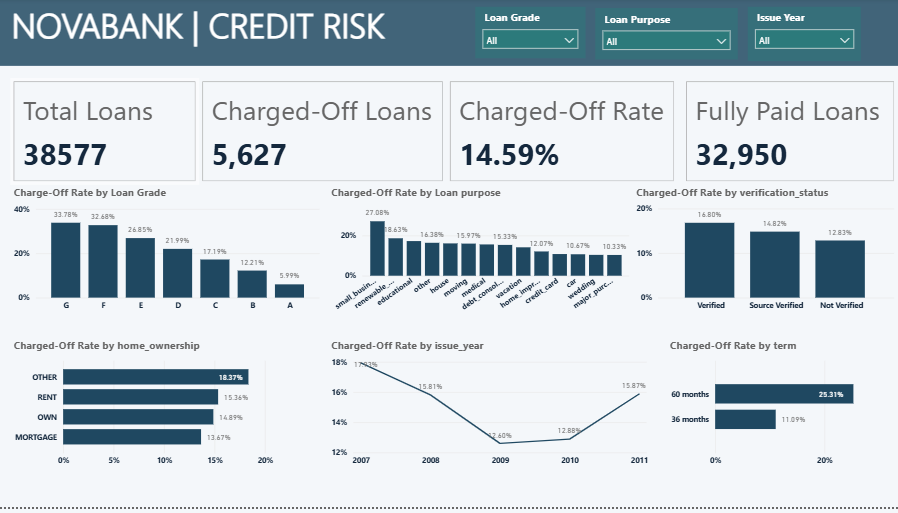

The page's visual inventory and layout, read from the dashboard file:
{"tool":"powerbi","page":{"name":"credit risk","canvas":[1280,720],"ordinal":0},"visuals":[{"type":"cardVisual","fields":{"Data":["credit_risk_cohort.Total Loans"]},"box":[15.7,112.9,267.1,151.4],"z":0},{"type":"cardVisual","fields":{"Data":["credit_risk_cohort.Charged-Off Loans"]},"box":[282.9,112.9,350,151.4],"z":1000},{"type":"cardVisual","fields":{"Data":["credit_risk_cohort.Charged-Off Rate"]},"box":[632.9,112.9,327.1,151.4],"z":2000},{"type":"cardVisual","fields":{"Data":["credit_risk_cohort.Fully Paid Loans"]},"box":[967.1,112.9,304.3,151.4],"z":3000},{"type":"textbox","box":[0,0,1280,95.7],"z":4000},{"type":"clusteredColumnChart","title":"Charge-Off Rate by Loan Grade","fields":{"Category":["credit_risk_cohort.grade"],"Y":["credit_risk_cohort.Charged-Off Rate"]},"box":[15.7,264.3,442.9,188.6],"z":5000},{"type":"clusteredColumnChart","title":"Charged-Off Rate by Loan purpose","fields":{"Category":["credit_risk_cohort.purpose"],"Y":["credit_risk_cohort.Charged-Off Rate"]},"box":[465.7,264.3,431.4,188.6],"z":6000},{"type":"slicer","fields":{"Values":["credit_risk_cohort.grade"]},"box":[674.3,12.9,155.7,72.9],"z":7000},{"type":"slicer","fields":{"Values":["credit_risk_cohort.purpose"]},"box":[842.9,14.3,201.4,72.9],"z":8000},{"type":"slicer","fields":{"Values":["credit_risk_cohort.issue_year"]},"box":[1058.6,12.9,160,77.1],"z":9000},{"type":"clusteredBarChart","fields":{"Category":["credit_risk_cohort.home_ownership"],"Y":["credit_risk_cohort.Charged-Off Rate"]},"box":[15.7,481.4,392.9,190],"z":10000},{"type":"lineChart","fields":{"Y":["credit_risk_cohort.Charged-Off Rate"],"Category":["credit_risk_cohort.issue_year"]},"box":[465.7,481.4,458.6,190],"z":11000},{"type":"clusteredColumnChart","fields":{"Category":["credit_risk_cohort.verification_status"],"Y":["credit_risk_cohort.Charged-Off Rate"]},"box":[897.1,264.3,374.3,188.6],"z":12000},{"type":"clusteredBarChart","fields":{"Category":["credit_risk_cohort.term"],"Y":["credit_risk_cohort.Charged-Off Rate"]},"box":[944.3,481.4,327.1,190],"z":13000}]}

Visuals, with their boxes in screenshot pixels (x1, y1, x2, y2), scaled from the page's 1280x720 canvas onto the 898x513 screenshot:
cardVisual - credit_risk_cohort.Total Loans: left=11, top=80, right=198, bottom=188
cardVisual - credit_risk_cohort.Charged-Off Loans: left=198, top=80, right=444, bottom=188
cardVisual - credit_risk_cohort.Charged-Off Rate: left=444, top=80, right=674, bottom=188
cardVisual - credit_risk_cohort.Fully Paid Loans: left=678, top=80, right=892, bottom=188
textbox: left=0, top=0, right=897, bottom=68
"Charge-Off Rate by Loan Grade" clusteredColumnChart: left=11, top=188, right=322, bottom=323
"Charged-Off Rate by Loan purpose" clusteredColumnChart: left=327, top=188, right=629, bottom=323
slicer - credit_risk_cohort.grade: left=473, top=9, right=582, bottom=61
slicer - credit_risk_cohort.purpose: left=591, top=10, right=733, bottom=62
slicer - credit_risk_cohort.issue_year: left=743, top=9, right=855, bottom=64
clusteredBarChart - credit_risk_cohort.home_ownership x credit_risk_cohort.Charged-Off Rate: left=11, top=343, right=287, bottom=478
lineChart - credit_risk_cohort.Charged-Off Rate x credit_risk_cohort.issue_year: left=327, top=343, right=648, bottom=478
clusteredColumnChart - credit_risk_cohort.verification_status x credit_risk_cohort.Charged-Off Rate: left=629, top=188, right=892, bottom=323
clusteredBarChart - credit_risk_cohort.term x credit_risk_cohort.Charged-Off Rate: left=662, top=343, right=892, bottom=478
